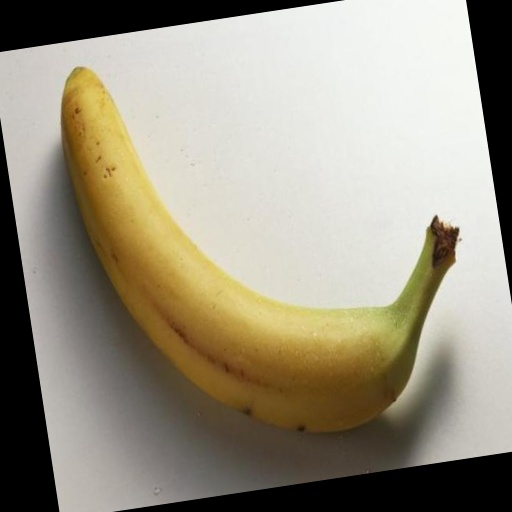fruit: (61, 68, 457, 432)
